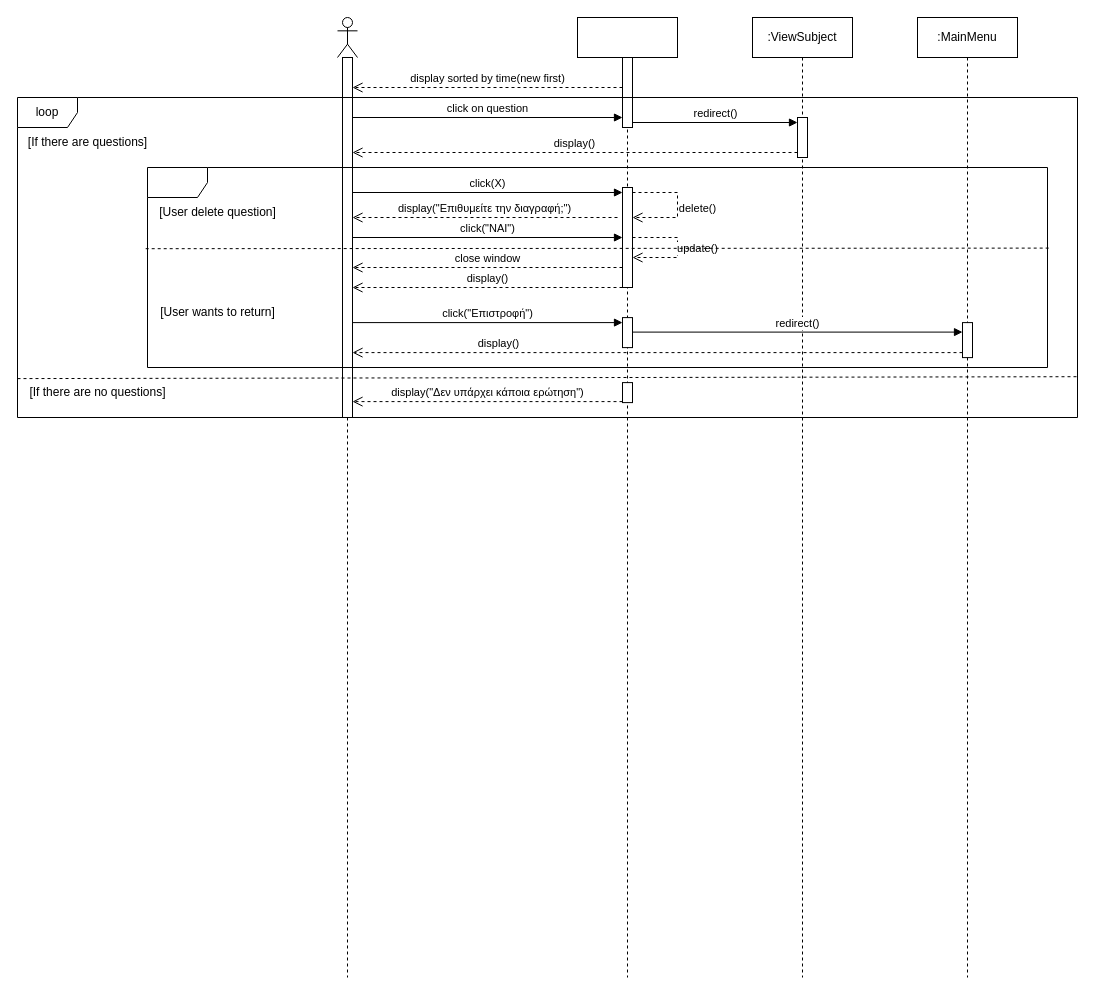
This 1096x995 diagram has some shape labels left out. Each missing label, with the box of its shape:
:Questions: (576, 16, 678, 978)
alt: (146, 166, 1048, 368)
